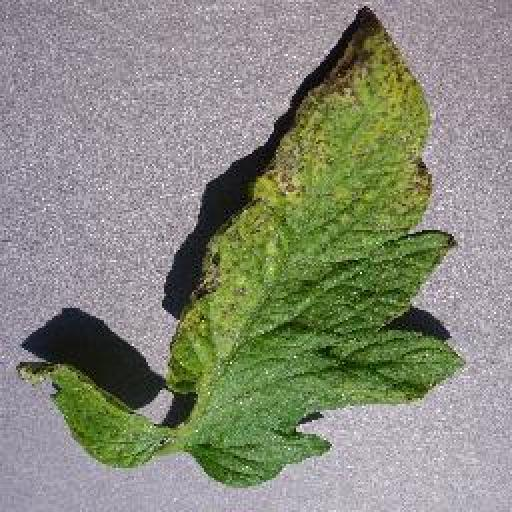Septoria: (161, 12, 464, 487)
